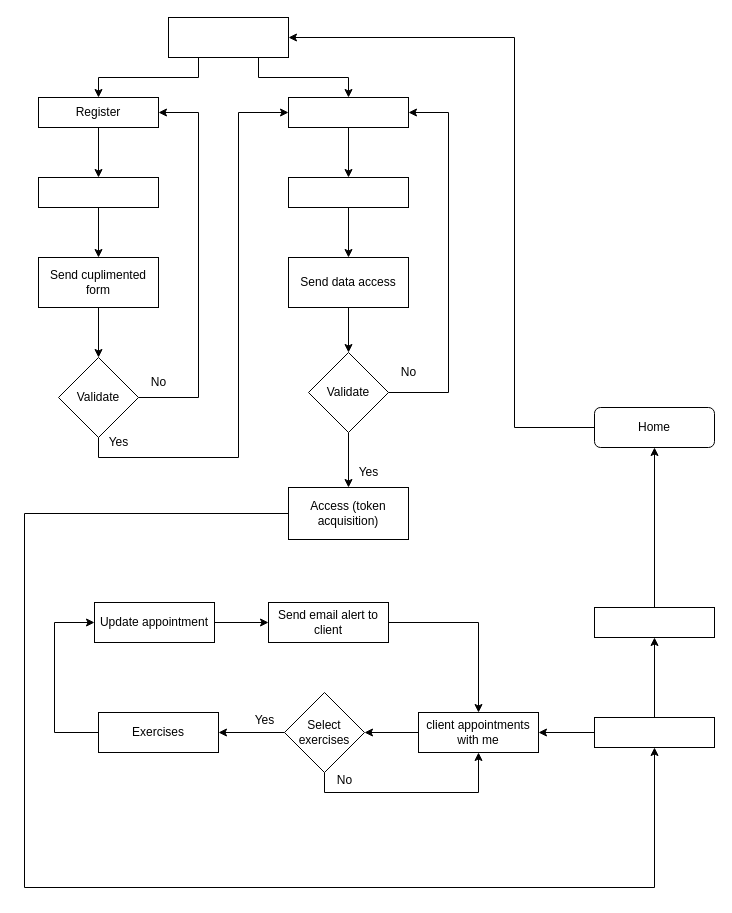
This 732x913 diagram has some shape labels left out. Here are the shapes that lost their labels. From the top down, the box of each, then its label:
(168, 16, 288, 58): Login/Register
(288, 96, 408, 128): Login
(38, 176, 158, 208): Register form
(288, 176, 408, 208): Data access
(594, 606, 714, 638): LogOut
(594, 716, 714, 748): Profile
